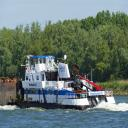tugboat: (15, 53, 118, 114)
